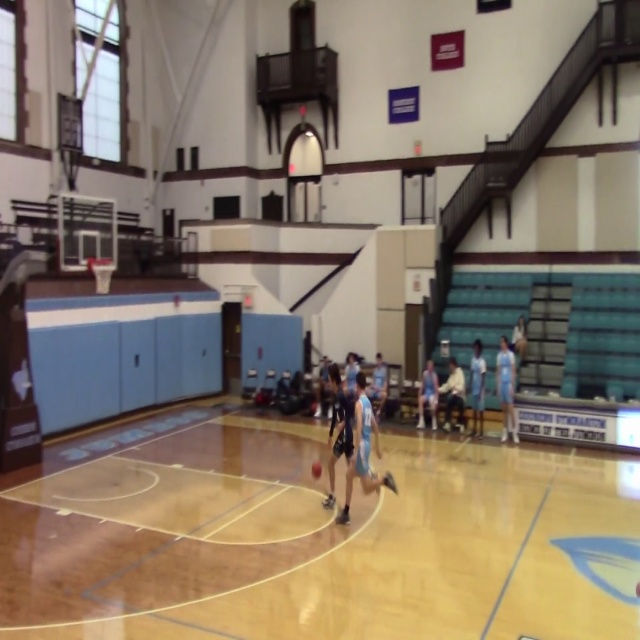Basketball: (311, 462, 322, 479), (636, 581, 640, 598)
